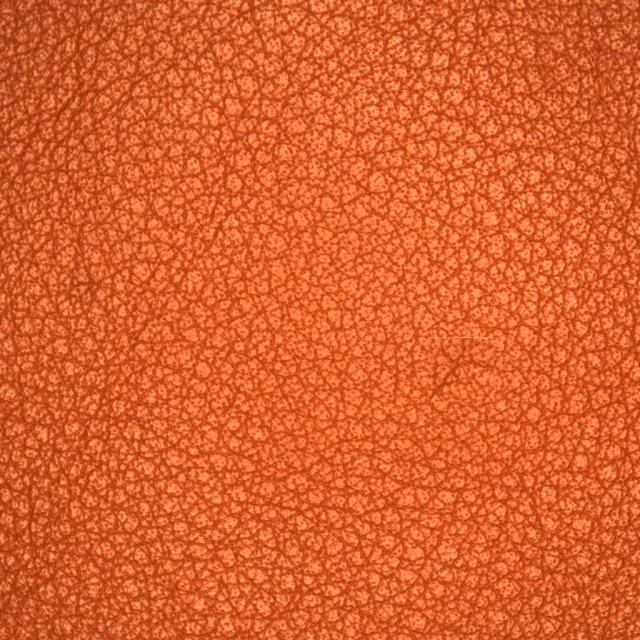Healed Injury: (402, 306, 519, 438)
